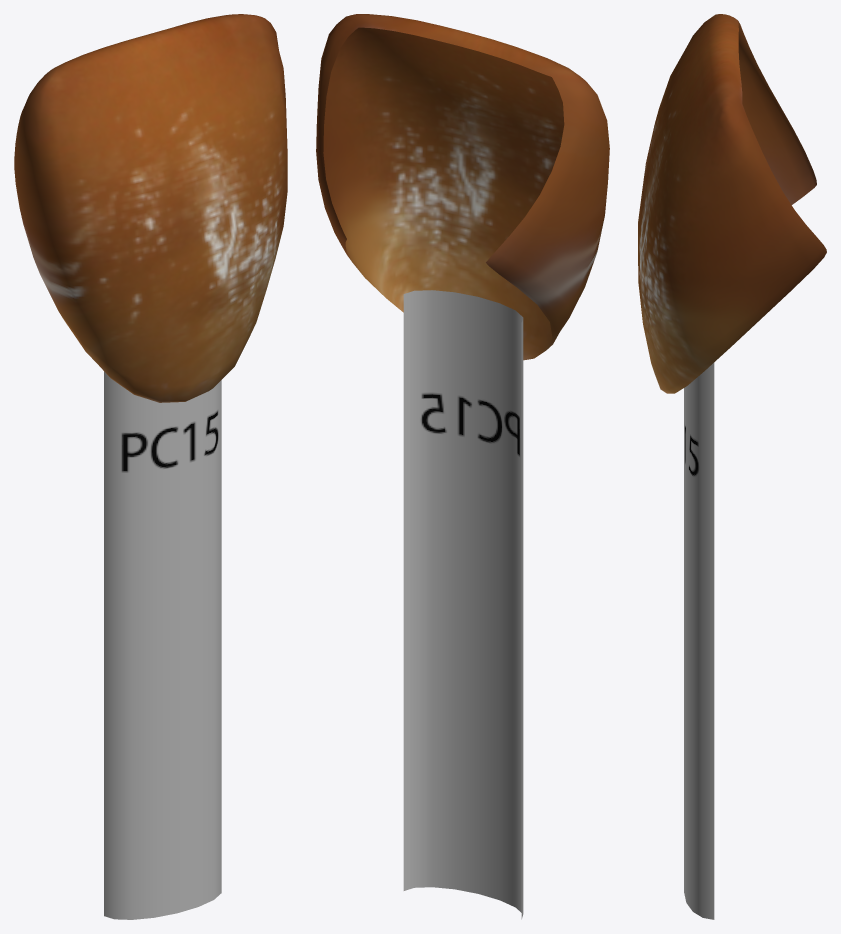
3 renders of one model, left to right at view 1: azimuth 30°, elevation 25°; view 2: azimuth 150°, elevation 25°; view 3: azimuth 270°, elevation 25°, orthographic. The views are drawn at different scales.
Visible parts, largest first — view 1: Tab; view 2: Tab; view 3: Tab.
Boxes of the visible parts, x1,y1,x2,y2 form: Tab: (14,14,287,919); Tab: (316,14,609,919); Tab: (638,14,826,919).
Bounding box in the file's own units: 0.00866 × 0.0274 × 0.00556.
Materials: 1 (1 with a texture image).
